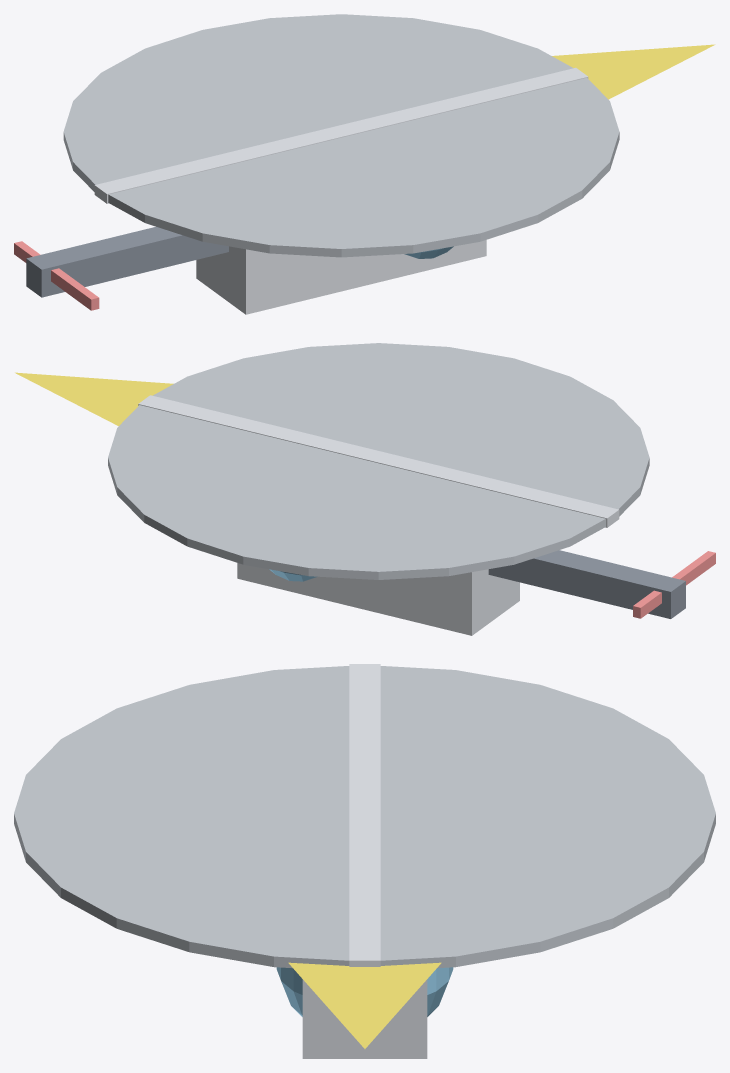
The model's file is heli.glb.
The picture shows the model from 3 angles, top to bottom: view 1: azimuth 30°, elevation 25°; view 2: azimuth 150°, elevation 25°; view 3: azimuth 270°, elevation 25°; orthographic projection. The views are drawn at different scales.
Size of the model in its own units: 25.5 by 5.17 by 18.
